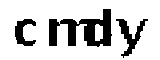c: (10, 17, 37, 49)
d: (85, 10, 115, 50)
m: (46, 13, 92, 52)
y: (114, 15, 149, 60)
